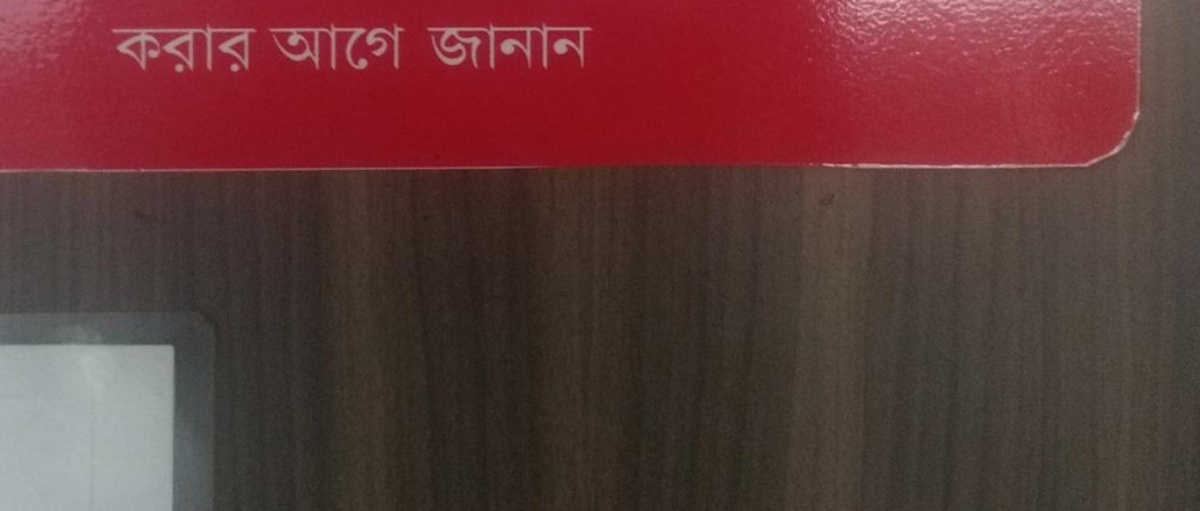text: (113, 20, 128, 77), (129, 20, 144, 77), (145, 20, 160, 77), (161, 20, 176, 77), (177, 20, 192, 77), (193, 20, 208, 77), (209, 20, 224, 77), (225, 20, 240, 77), (241, 20, 256, 77), (433, 19, 448, 74), (449, 19, 464, 74), (465, 19, 480, 74), (481, 19, 496, 74), (497, 19, 512, 74), (513, 19, 528, 74), (529, 19, 544, 74), (545, 19, 560, 74), (561, 19, 576, 74), (577, 19, 592, 74), (273, 19, 288, 73), (289, 19, 304, 73), (305, 19, 320, 73), (321, 19, 336, 73), (337, 19, 352, 73), (353, 19, 368, 73), (369, 19, 384, 73), (385, 19, 400, 73), (422, 19, 432, 74), (401, 19, 409, 73), (265, 19, 272, 73), (593, 19, 598, 74), (109, 20, 112, 77), (257, 20, 258, 77)
